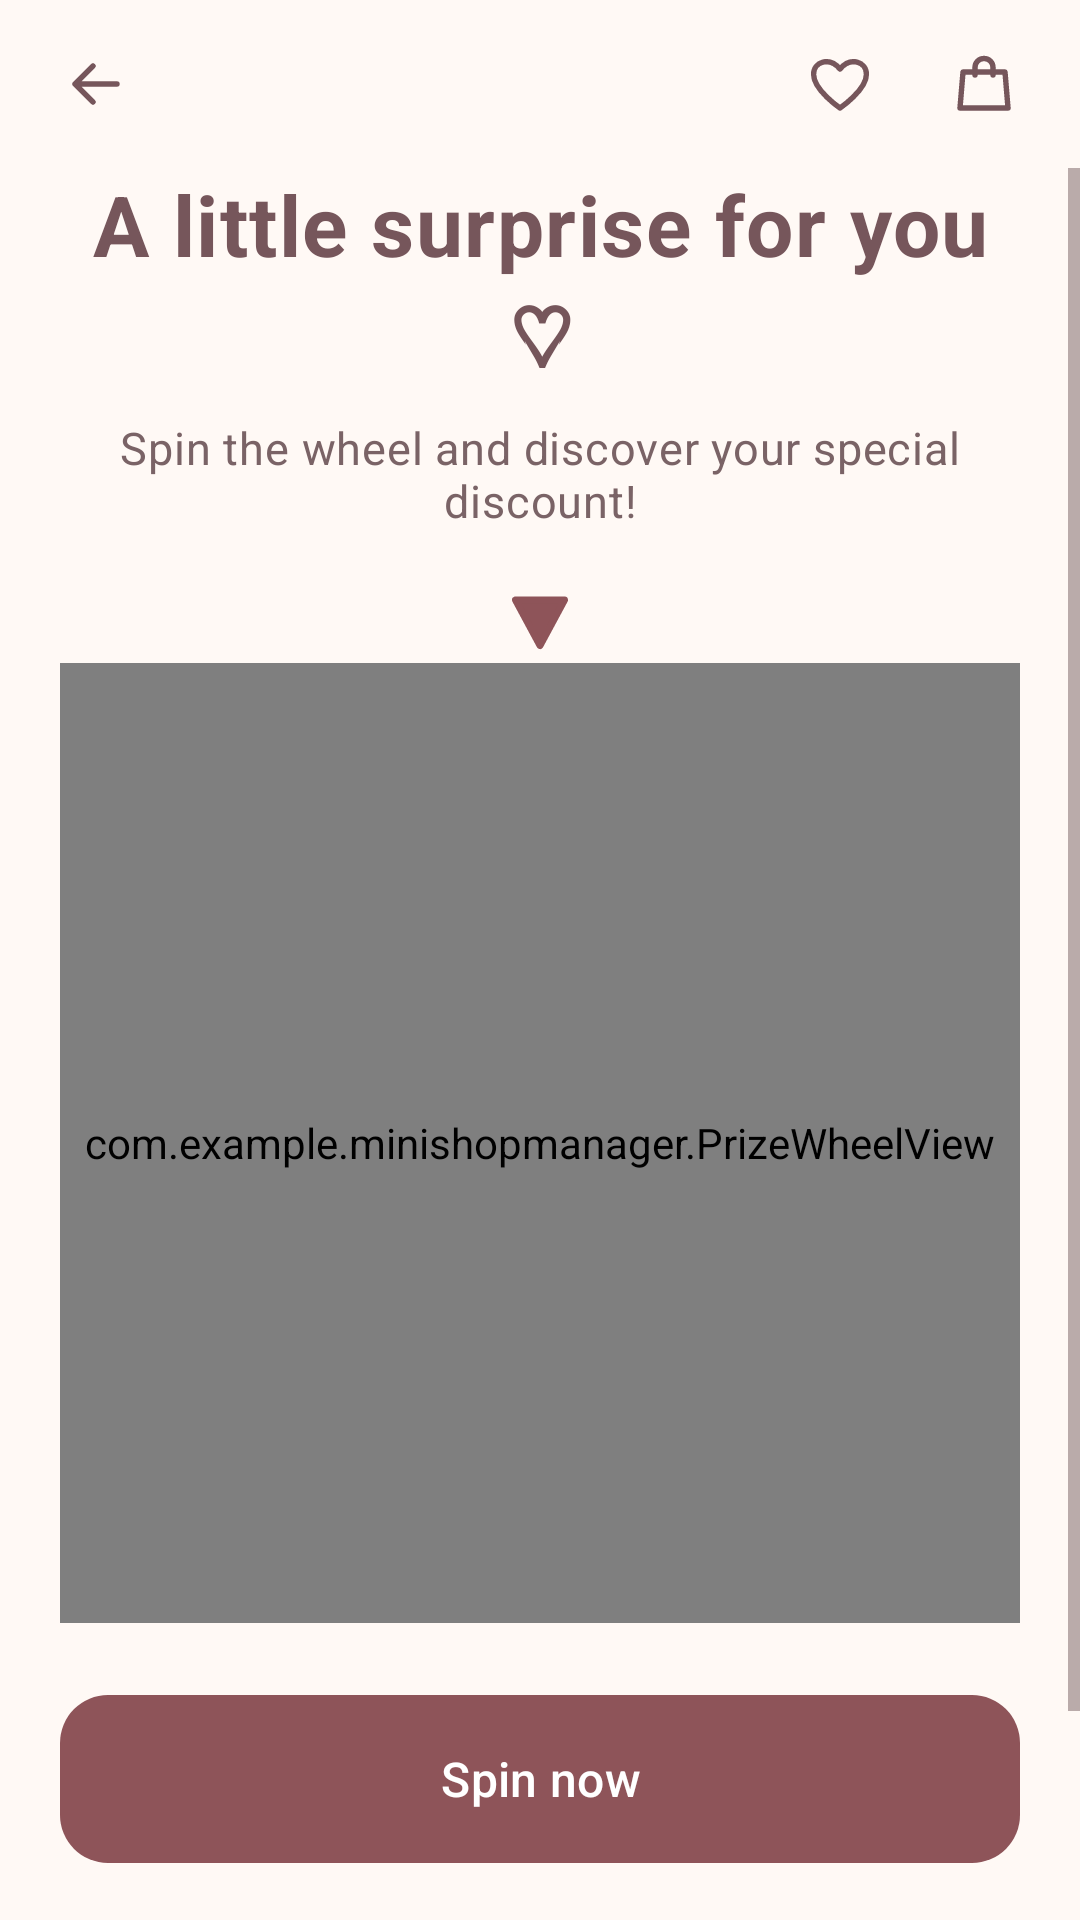

Point at icon controls on the screen. Image size 1080w x 1920h, points as (x=x, y=y).
Mes favoris: (x=840, y=85)
Mon panier: (x=984, y=83)
Retour: (x=96, y=84)
